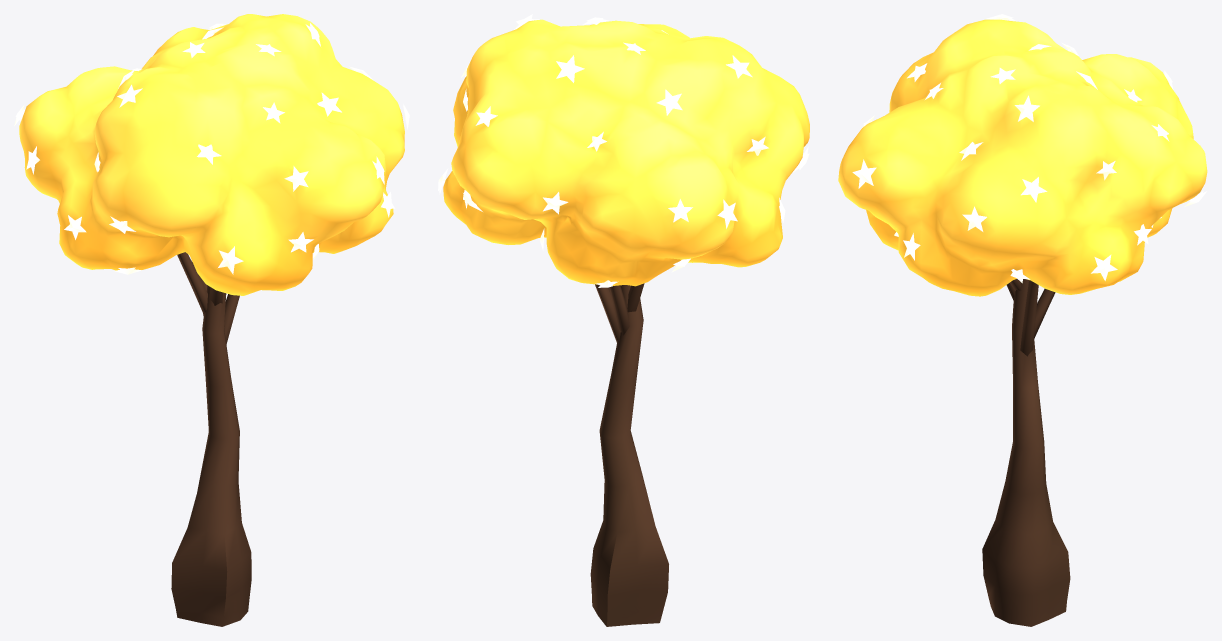
File: star-tree.glb
3 views of the same model, side by side, from view 1: azimuth 30°, elevation 25°; view 2: azimuth 150°, elevation 25°; view 3: azimuth 270°, elevation 25° (orthographic). The views are drawn at different scales.
Parts seen in each view (by area): view 1: Star tree Star leaves, Star tree Bark, Star tree Star blossom; view 2: Star tree Star leaves, Star tree Bark, Star tree Star blossom; view 3: Star tree Star leaves, Star tree Bark, Star tree Star blossom.
Boxes of the visible parts, <box> form: Star tree Star leaves: <box>19,14,404,295</box>; Star tree Bark: <box>171,252,251,626</box>; Star tree Star blossom: <box>14,23,409,274</box>; Star tree Star leaves: <box>443,19,809,286</box>; Star tree Bark: <box>590,283,668,626</box>; Star tree Star blossom: <box>438,14,809,287</box>; Star tree Star leaves: <box>838,19,1207,296</box>; Star tree Bark: <box>982,279,1070,626</box>; Star tree Star blossom: <box>852,14,1206,283</box>.
Size of the model in its own units: 1.81 by 3.04 by 1.81.
